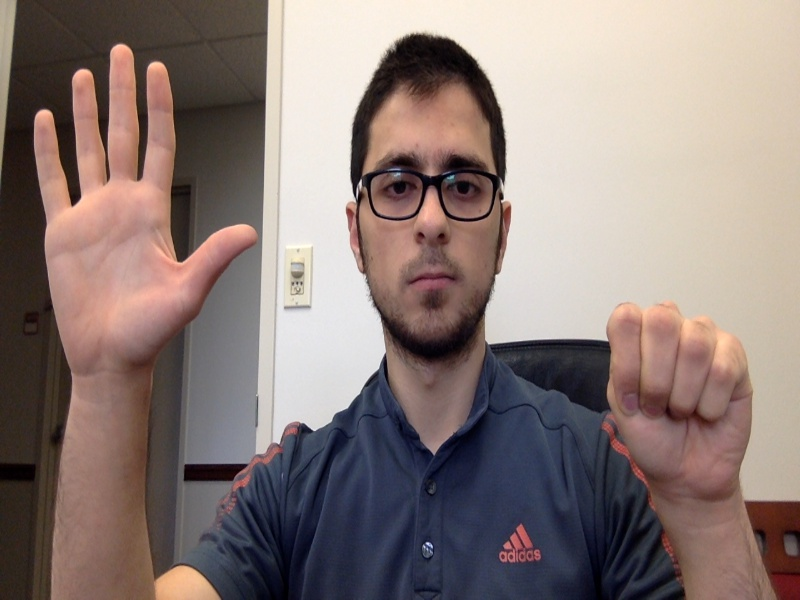0-hand: (608, 302, 751, 502)
5-hand: (33, 41, 257, 380)
